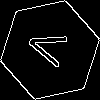V: (25, 25, 77, 71)
